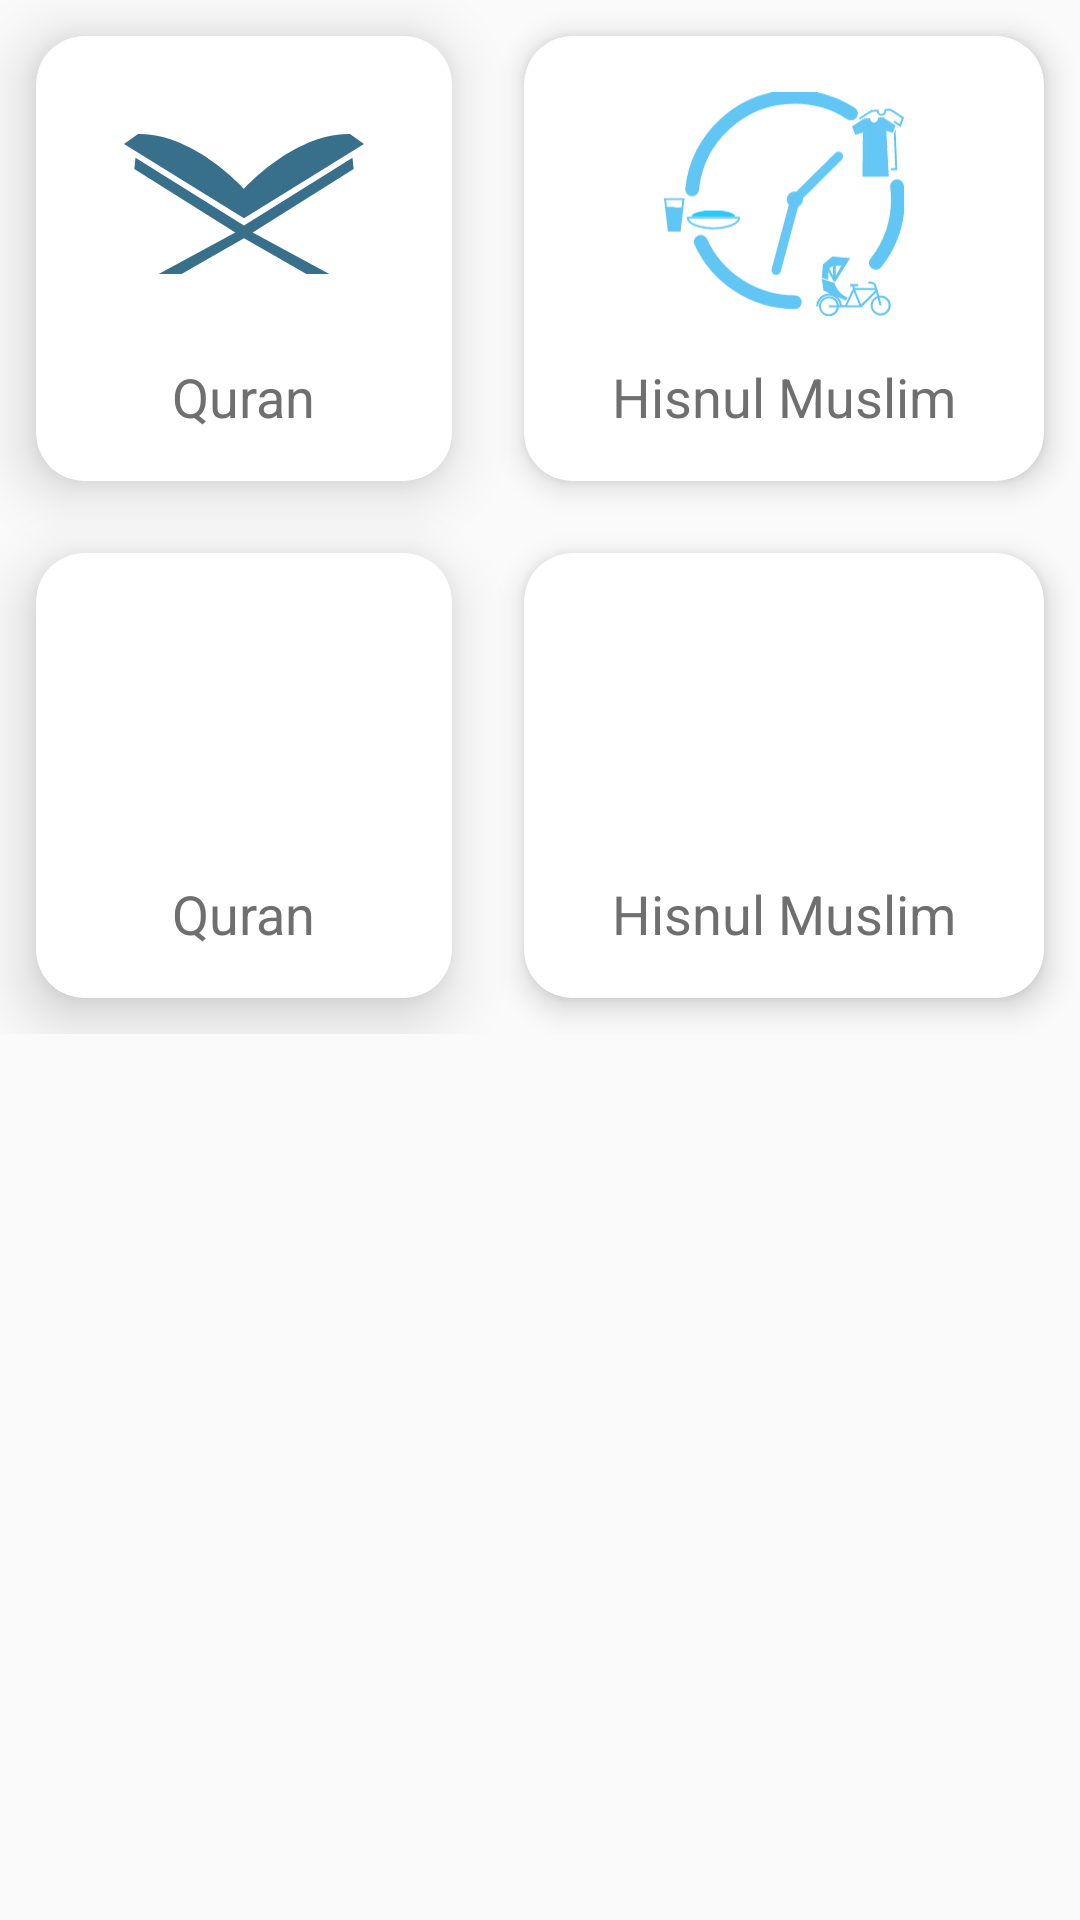

Icons on this 1080 × 1920 Android screen, each with the point to tap as (x,y):
daily bn: (784,204)
